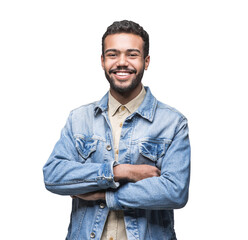young: (93, 14, 158, 94)
